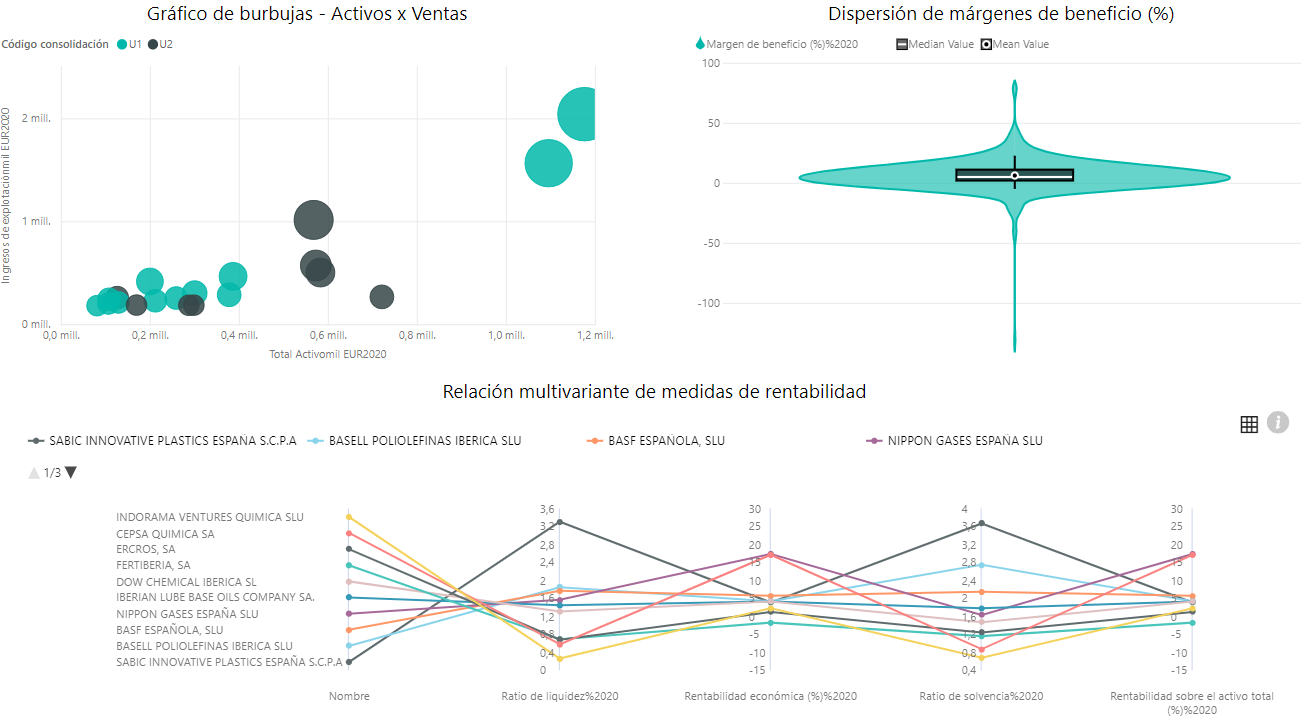

What the dashboard file says about the page in this screenshot:
{"tool":"powerbi","page":{"name":"Segm Geog","canvas":[1280,720],"ordinal":1},"visuals":[{"type":"map","title":"Dispersión geográfica de empresas del sector","fields":{"Y":["Avg(Ciudades ES.lat)"],"X":["Avg(Ciudades ES.Ing)"],"Category":["PRA2 Visualización Datos.Localidad"],"Size":["Sum(PRA2 Visualización Datos.Ingresos de explotaciónmil EUR2020)"],"Series":["PRA2 Visualización Datos.Código consolidación"]},"box":[12.4,39.4,1255.2,619.7],"z":7000}]}

Visuals, with their boxes in screenshot pixels (x1, y1, x2, y2), scaled from the page's 1280x720 canvas onto the 1301x726 screenshot:
"Dispersión geográfica de empresas del sector" map: {"x1": 13, "y1": 40, "x2": 1288, "y2": 665}
